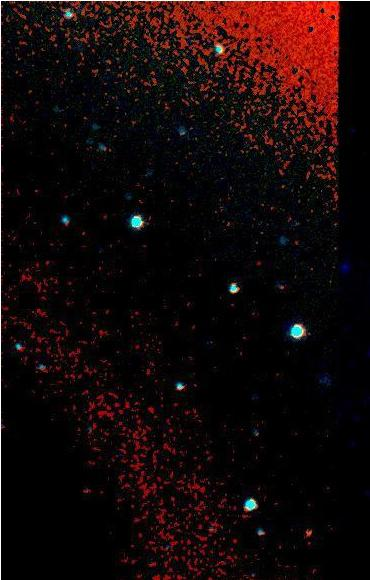star: (178, 315, 208, 345)
